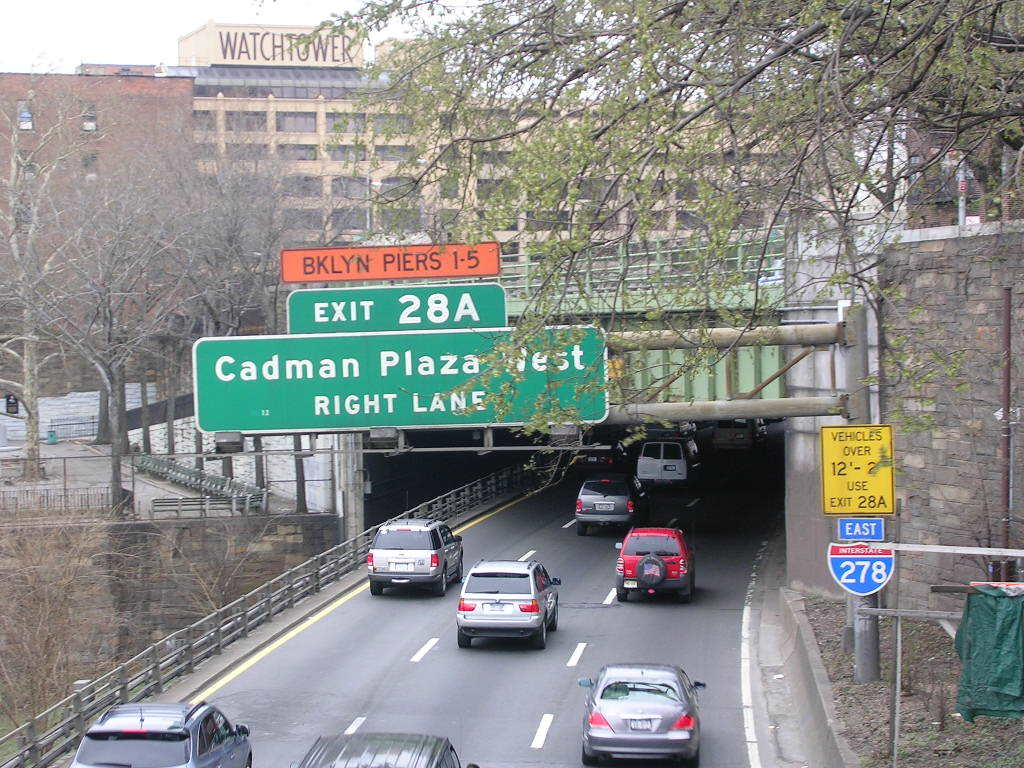Car: (67, 696, 252, 767), (574, 669, 707, 756), (455, 560, 560, 649), (366, 514, 458, 595), (291, 730, 480, 767), (616, 528, 696, 605), (574, 475, 647, 531), (712, 418, 769, 447), (579, 440, 627, 467)
